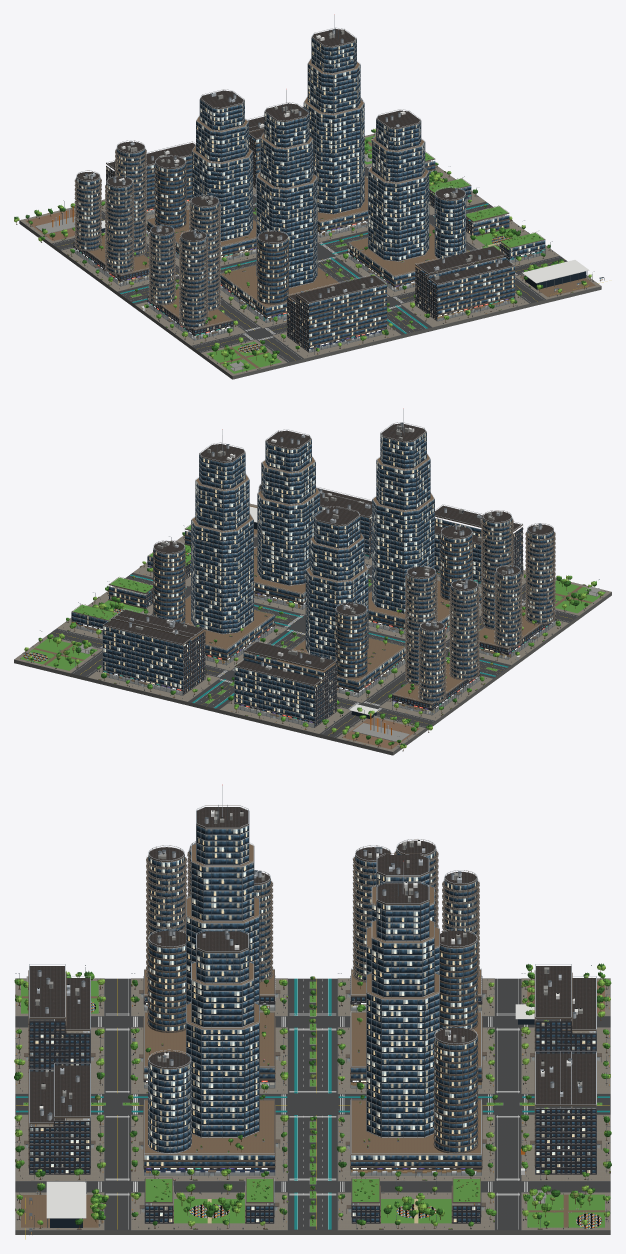
File: world-glassq.glb
The picture shows the model from 3 angles, top to bottom: view 1: azimuth 30°, elevation 25°; view 2: azimuth 150°, elevation 25°; view 3: azimuth 270°, elevation 25°; orthographic projection. The views are drawn at different scales.
Parts seen in each view (by area): view 1: b21_Glass, b11_Glass, b22_Glass, b12_Glass, Sidewalk, Road, b21_Props, b11_Props, b22_Props, b12_Props, b01_panel, b02_panel (+36 smaller); view 2: b22_Glass, b11_Glass, b12_Glass, b21_Glass, b22_Props, Sidewalk, Road, b11_Props, b02_panel, b01_panel, b12_Props, b21_Props (+42 smaller); view 3: Road, Sidewalk, b22_Glass, b21_Glass, Props, b11_Glass, b22_Props, b21_Props, b11_Props, b32_Props, b31_Props, b22_panel (+47 smaller).
Part boxes in pixels (x1,y1,x2,y2): b21_Glass: [348, 120, 473, 284]; b11_Glass: [220, 113, 316, 315]; b22_Glass: [304, 38, 367, 230]; b12_Glass: [146, 100, 256, 254]; Sidewalk: [20, 133, 600, 375]; Road: [52, 165, 567, 362]; b21_Props: [340, 109, 478, 294]; b11_Props: [220, 90, 338, 324]; b22_Props: [303, 15, 367, 240]; b12_Props: [146, 89, 256, 264]; b01_panel: [148, 194, 233, 333]; b02_panel: [73, 140, 148, 279]; b22_Glass: [153, 453, 274, 657]; b11_Glass: [368, 433, 481, 627]; b12_Glass: [306, 517, 405, 689]; b21_Glass: [254, 440, 319, 602]; b22_Props: [153, 430, 281, 667]; Sidewalk: [15, 504, 610, 751]; Road: [47, 536, 578, 737]; b11_Props: [368, 409, 481, 637]; b02_panel: [392, 565, 479, 708]; b01_panel: [479, 510, 555, 652]; b12_Props: [297, 506, 405, 699]; b21_Props: [254, 429, 320, 611]; Road: [15, 978, 610, 1230]; Sidewalk: [15, 978, 610, 1229]; b22_Glass: [351, 902, 481, 1165]; b21_Glass: [144, 950, 274, 1165]; Props: [15, 976, 610, 1234]; b11_Glass: [144, 826, 274, 1078]; b22_Props: [336, 862, 496, 1181]; b21_Props: [129, 929, 288, 1181]; b11_Props: [130, 786, 288, 1093]; b32_Props: [337, 1179, 496, 1230]; b31_Props: [130, 1178, 288, 1230]; b22_panel: [345, 882, 486, 1172].
Bounding box in the file's own units: 383 × 191 × 361.
Materials: 13 (12 with a texture image).
